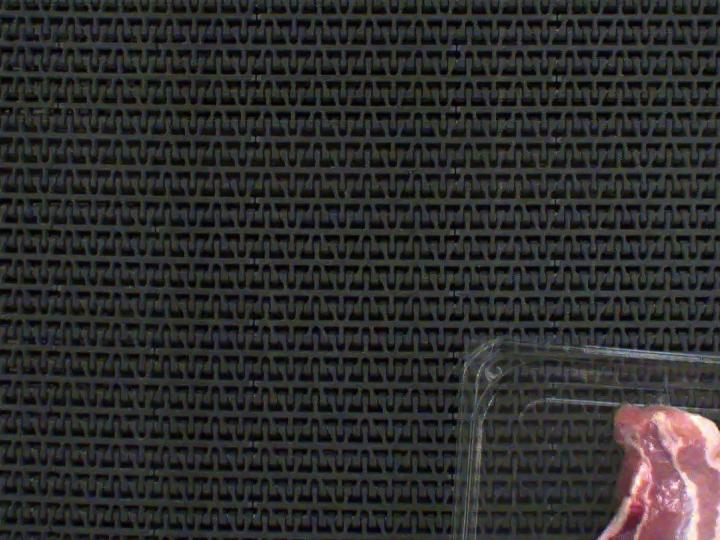packaging-error: (648, 364, 678, 409)
